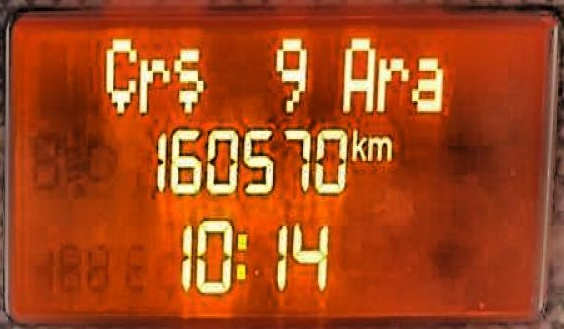0: (194, 215, 233, 294), (204, 124, 239, 194), (314, 127, 345, 192)
1: (274, 217, 286, 291), (179, 221, 191, 292), (154, 126, 166, 196)
4: (289, 217, 329, 291)
5: (242, 124, 275, 194)
6: (170, 124, 200, 194)
7: (282, 124, 312, 194)
9: (274, 35, 308, 114)
X: (100, 32, 135, 112), (342, 34, 373, 110), (173, 44, 204, 110), (409, 56, 443, 112), (137, 56, 170, 112), (375, 57, 406, 112), (233, 227, 248, 282), (366, 132, 391, 161), (349, 126, 365, 161)
